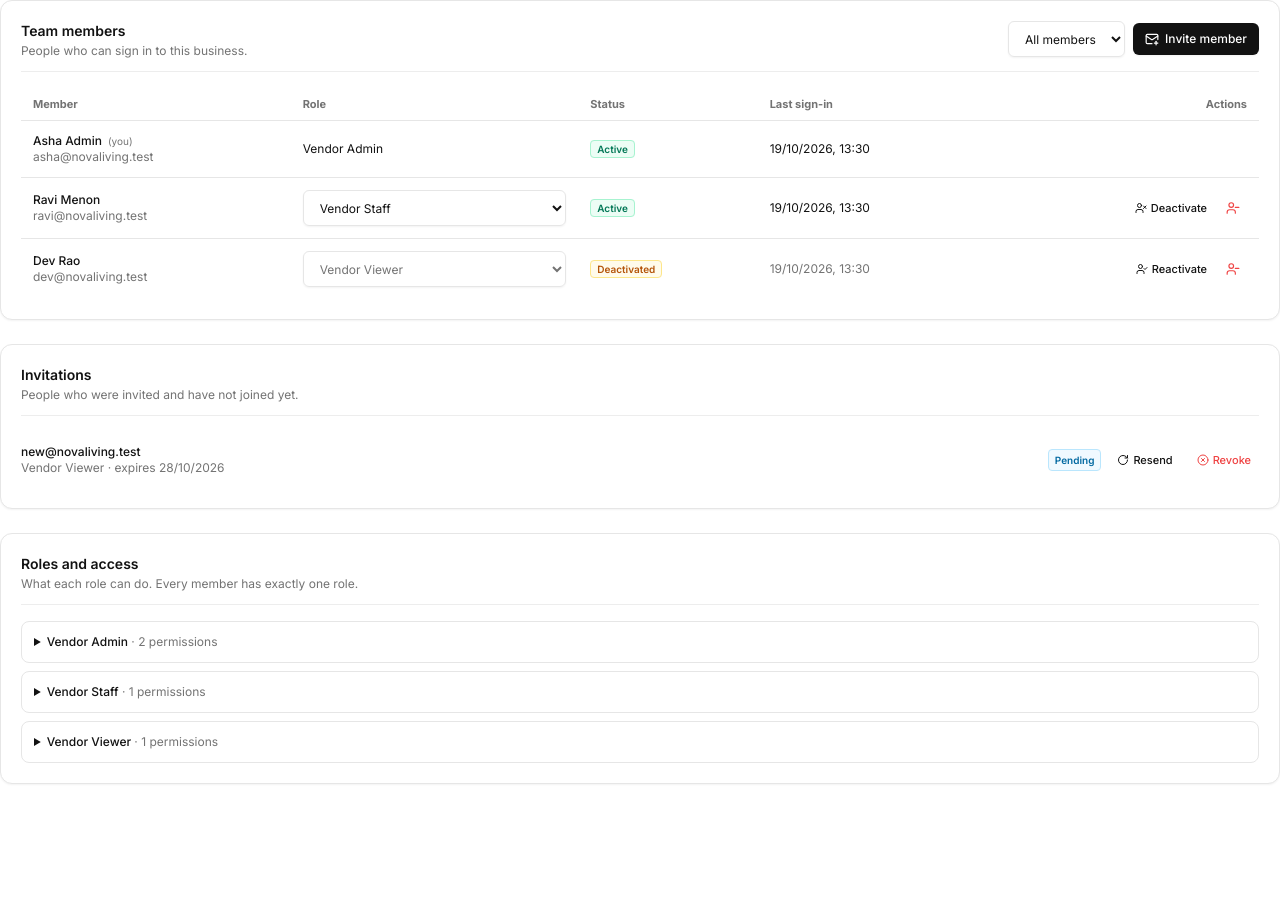
Test case: TeamTab › invites by email with a role
This screenshot has width=1280, height=900.
Click the button "Invite member": x=1196, y=39 x1=1133 y1=23 x2=1259 y2=55
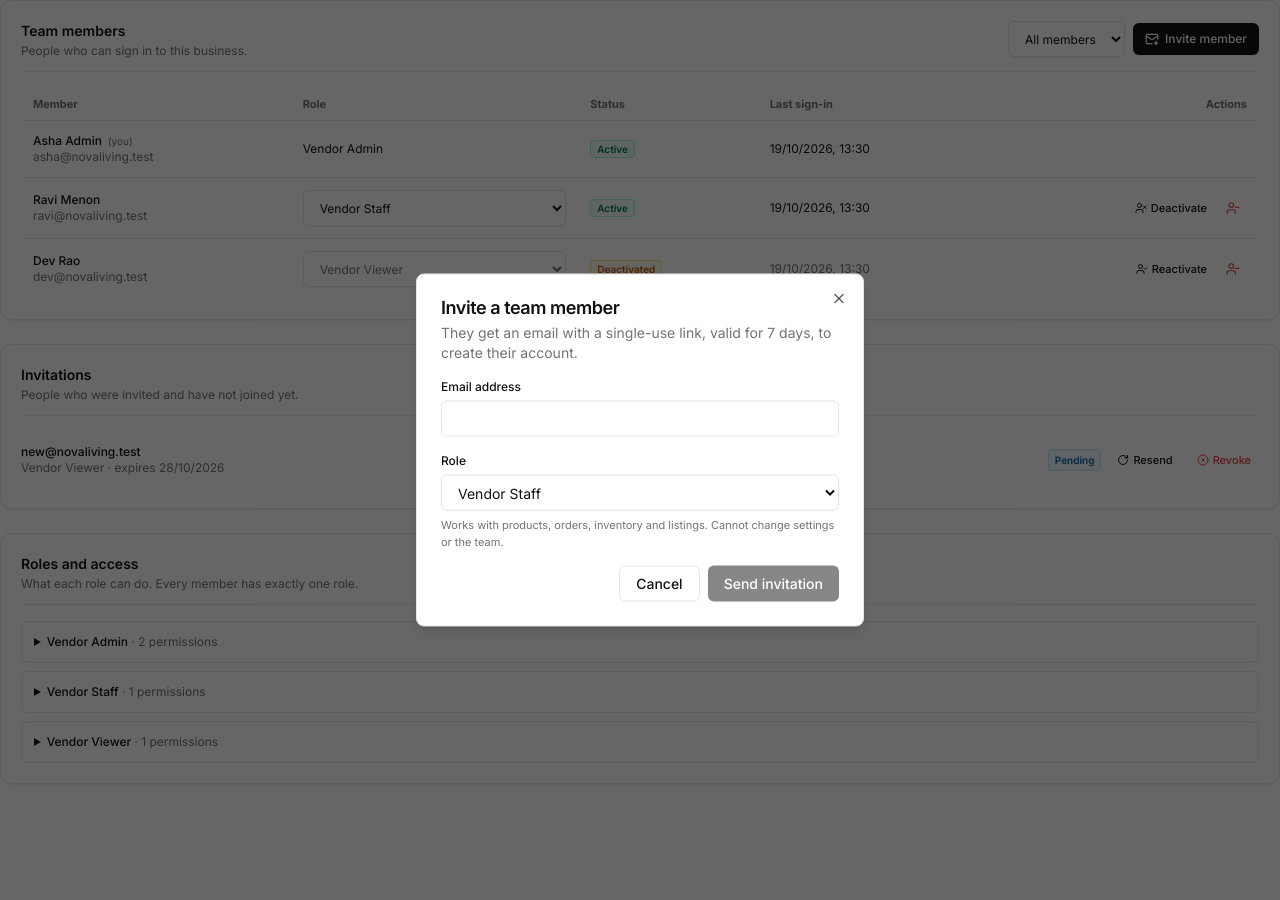
Now the button "Send invitation" is disabled, box x1=708 y1=566 x2=839 y2=602
In the field labelled "Email address": x=640, y=418 x1=441 y1=400 x2=839 y2=436, type "priya@novaliving.test"
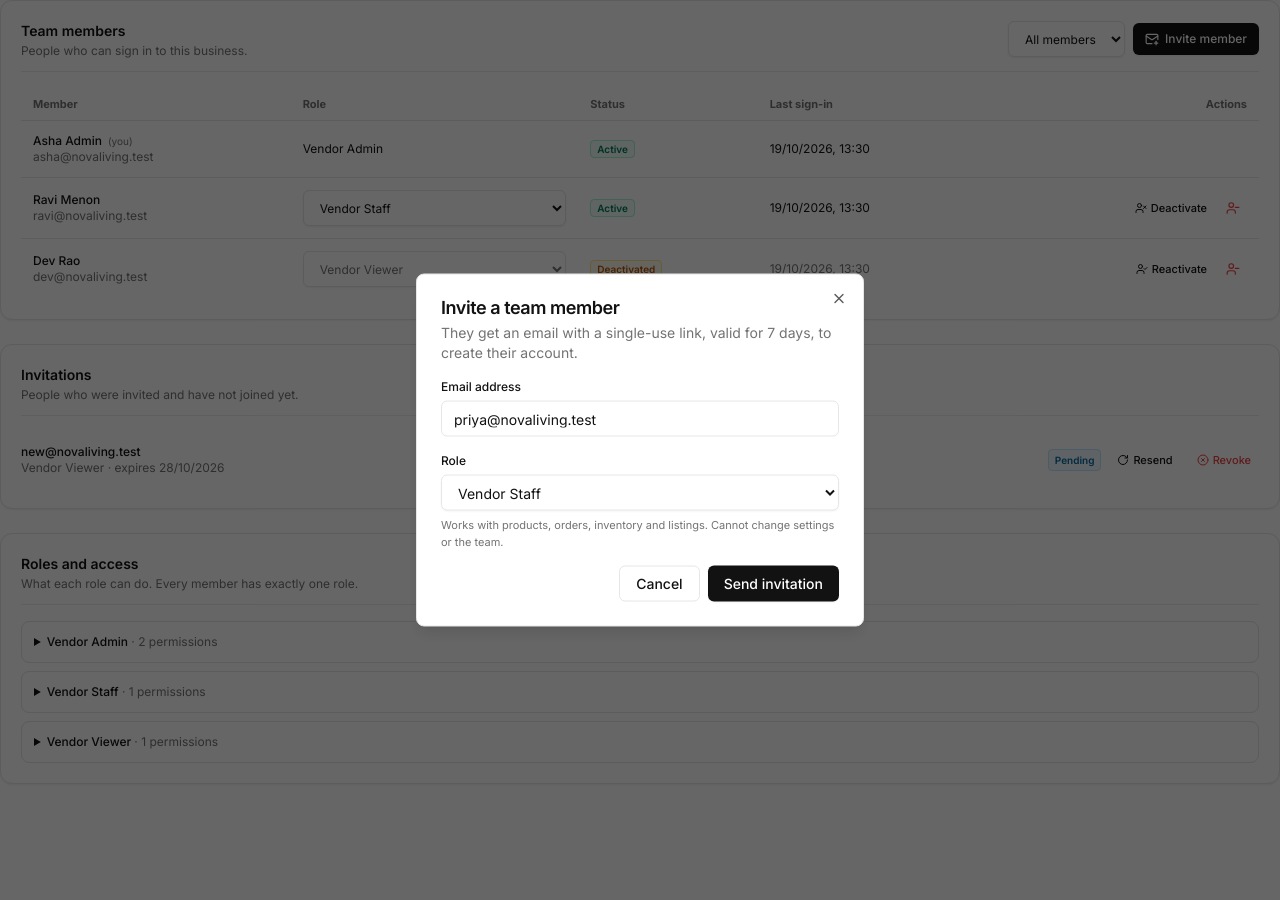
Select "Vendor Admin" in the dropdown labelled "Role": x=640, y=492 x1=441 y1=474 x2=839 y2=510
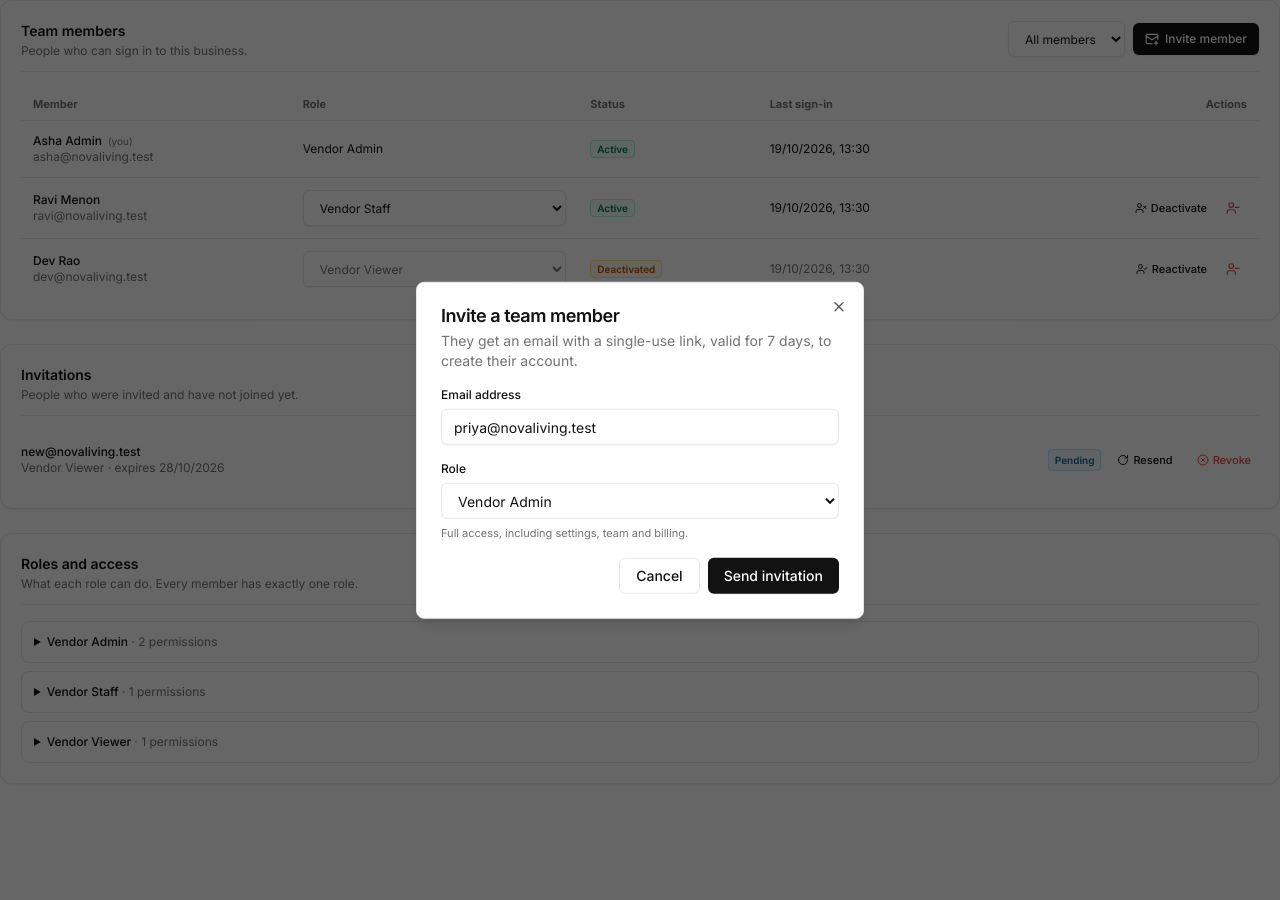
Click the button "Send invitation": x=773, y=575 x1=708 y1=557 x2=839 y2=593
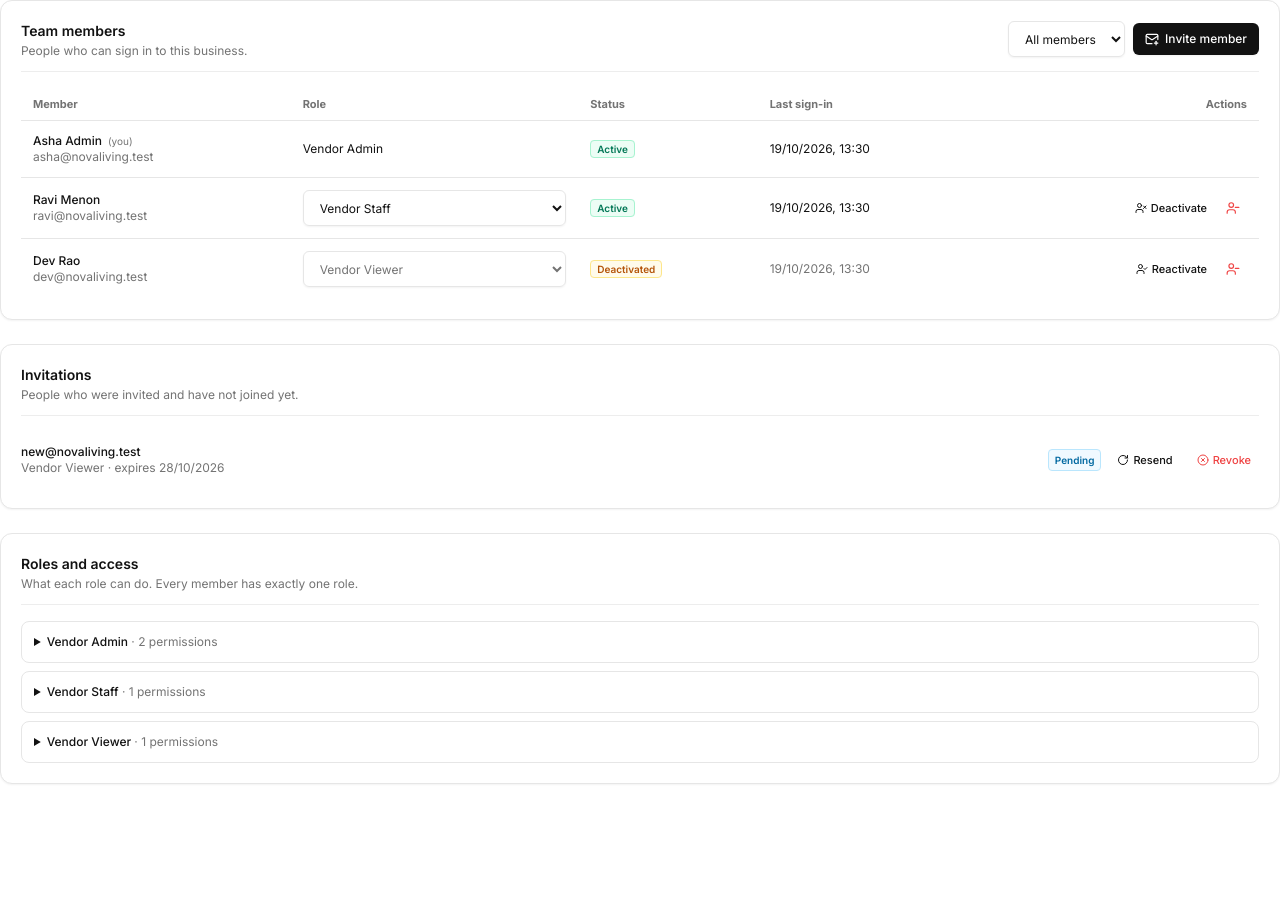
Now the dialog is gone
